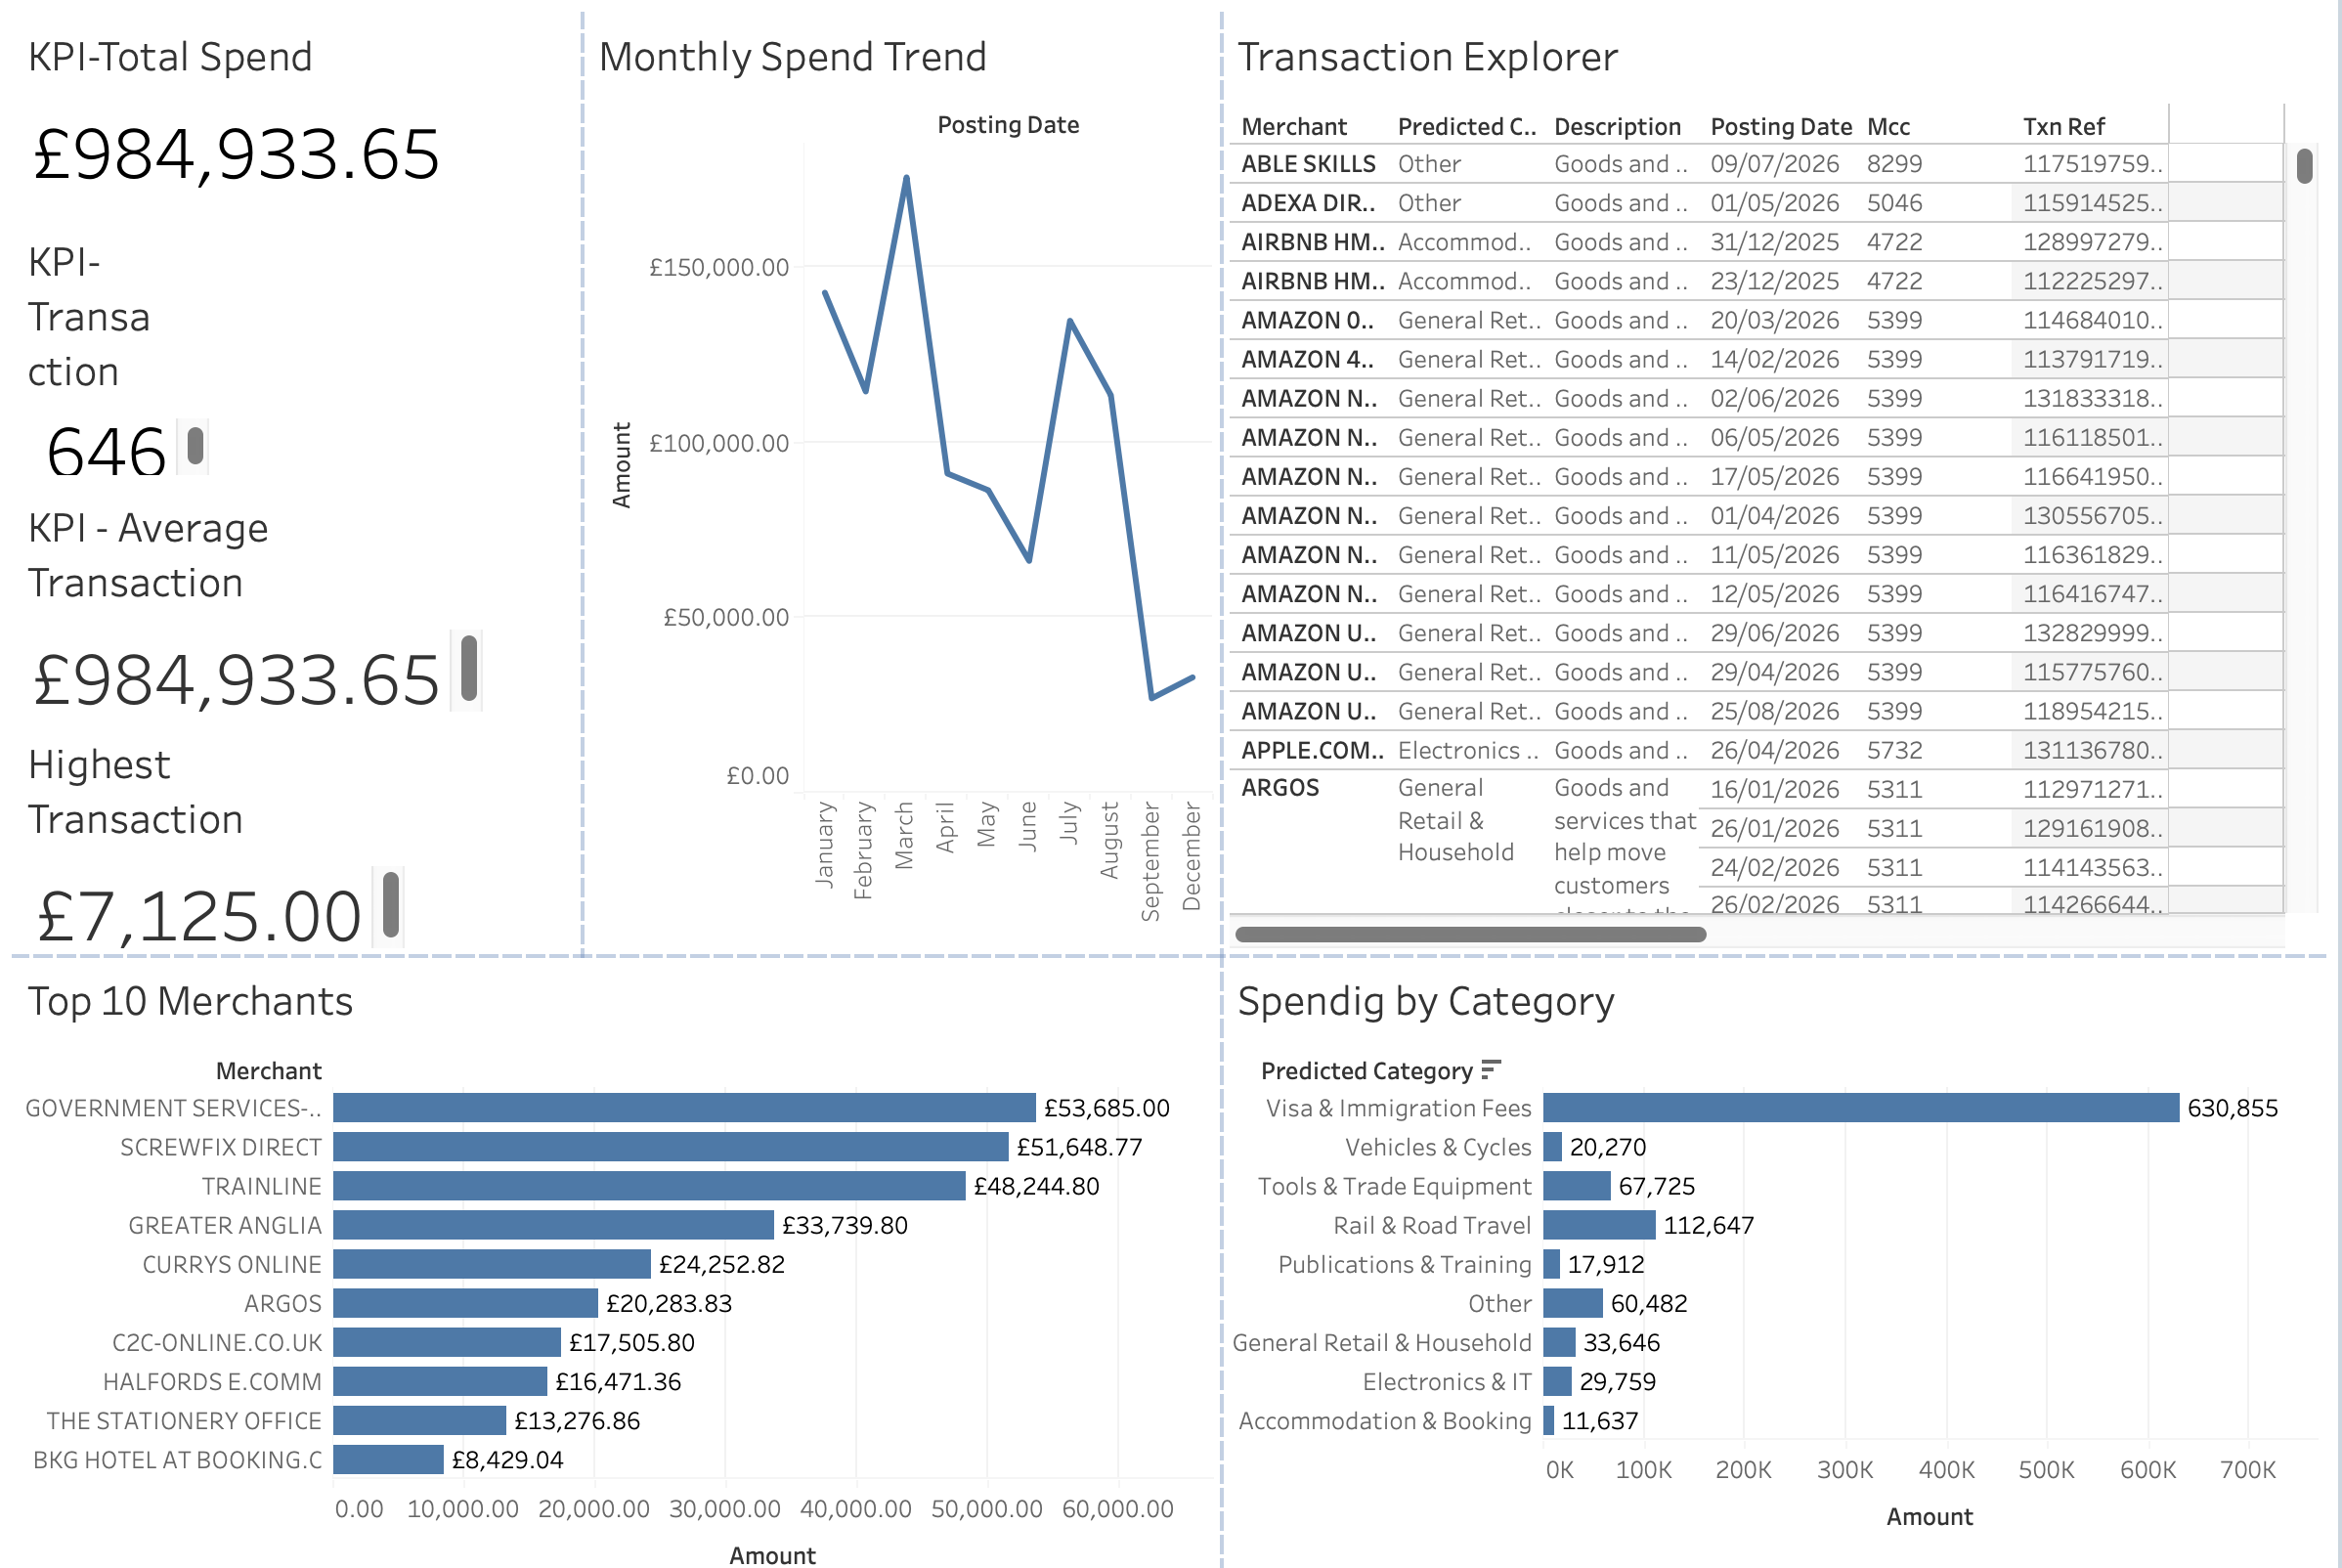

This screenshot's page, from the dashboard's own definition file:
{"tool":"tableau","page":{"name":"Dashboard 1","canvas":[1200,850],"ordinal":0},"visuals":[{"type":"worksheet","title":"KPI-Total Spend","mark":"Automatic","box":[8,8,292,105]},{"type":"worksheet","title":"Monthly Spend Trend","mark":"Automatic","rows":["amount"],"cols":["posting_date"],"box":[300,8,327,483]},{"type":"worksheet","title":"Transaction Explorer","mark":"Automatic","rows":["merchant","predicted_category","description","posting_date","mcc","txn_ref"],"box":[627,8,565,483]},{"type":"worksheet","title":"KPI-Transaction","mark":"Automatic","box":[8,113,292,136]},{"type":"worksheet","title":"KPI - Average Transaction","mark":"Automatic","box":[8,249,292,121]},{"type":"worksheet","title":"Highest Transaction","mark":"Automatic","box":[8,370,292,121]},{"type":"worksheet","title":"Top 10 Merchants","mark":"Automatic","rows":["merchant"],"cols":["amount"],"box":[8,491,619,351]},{"type":"worksheet","title":"Spendig by Category","mark":"Automatic","rows":["predicted_category"],"cols":["amount"],"box":[627,491,565,351]}]}

Visuals, with their boxes on the page's 1200x850 design canvas (x1, y1, x2, y2). These are canvas units, not pixel positions in the 2342x1568 screenshot, which may show the page scaled, cropped or inside an application window:
"KPI-Total Spend" worksheet: 8:8:300:113
"Monthly Spend Trend" worksheet: 300:8:627:491
"Transaction Explorer" worksheet: 627:8:1192:491
"KPI-Transaction" worksheet: 8:113:300:249
"KPI - Average Transaction" worksheet: 8:249:300:370
"Highest Transaction" worksheet: 8:370:300:491
"Top 10 Merchants" worksheet: 8:491:627:842
"Spendig by Category" worksheet: 627:491:1192:842
